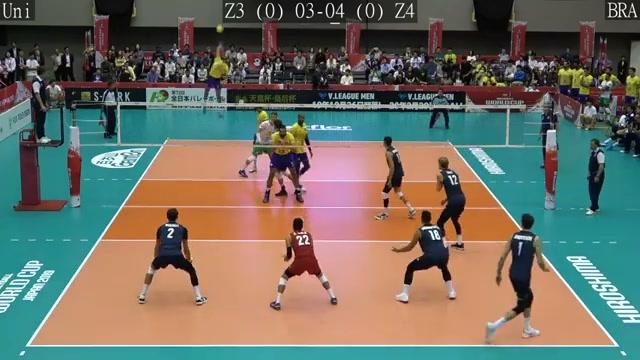ball: (216, 24, 225, 34)
